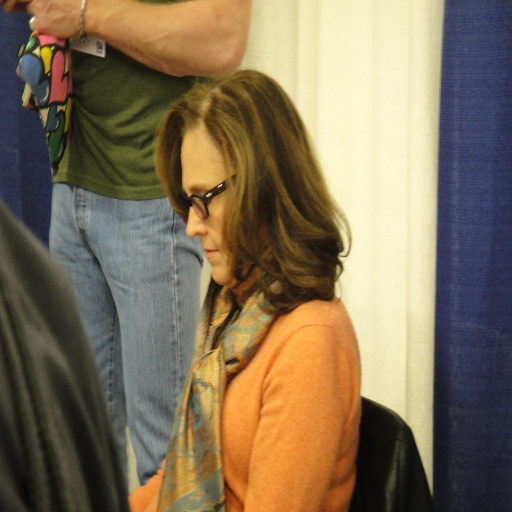hand: (28, 0, 80, 39), (0, 0, 30, 13)
